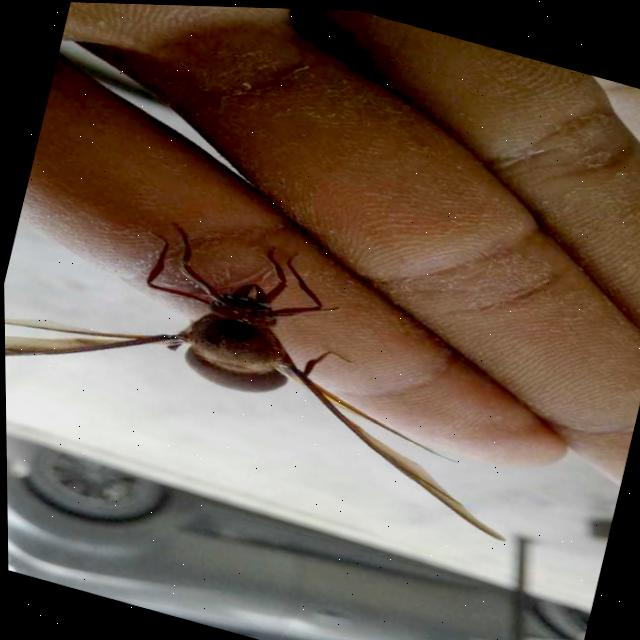Alive-Male-Alate: (2, 176, 557, 541)
